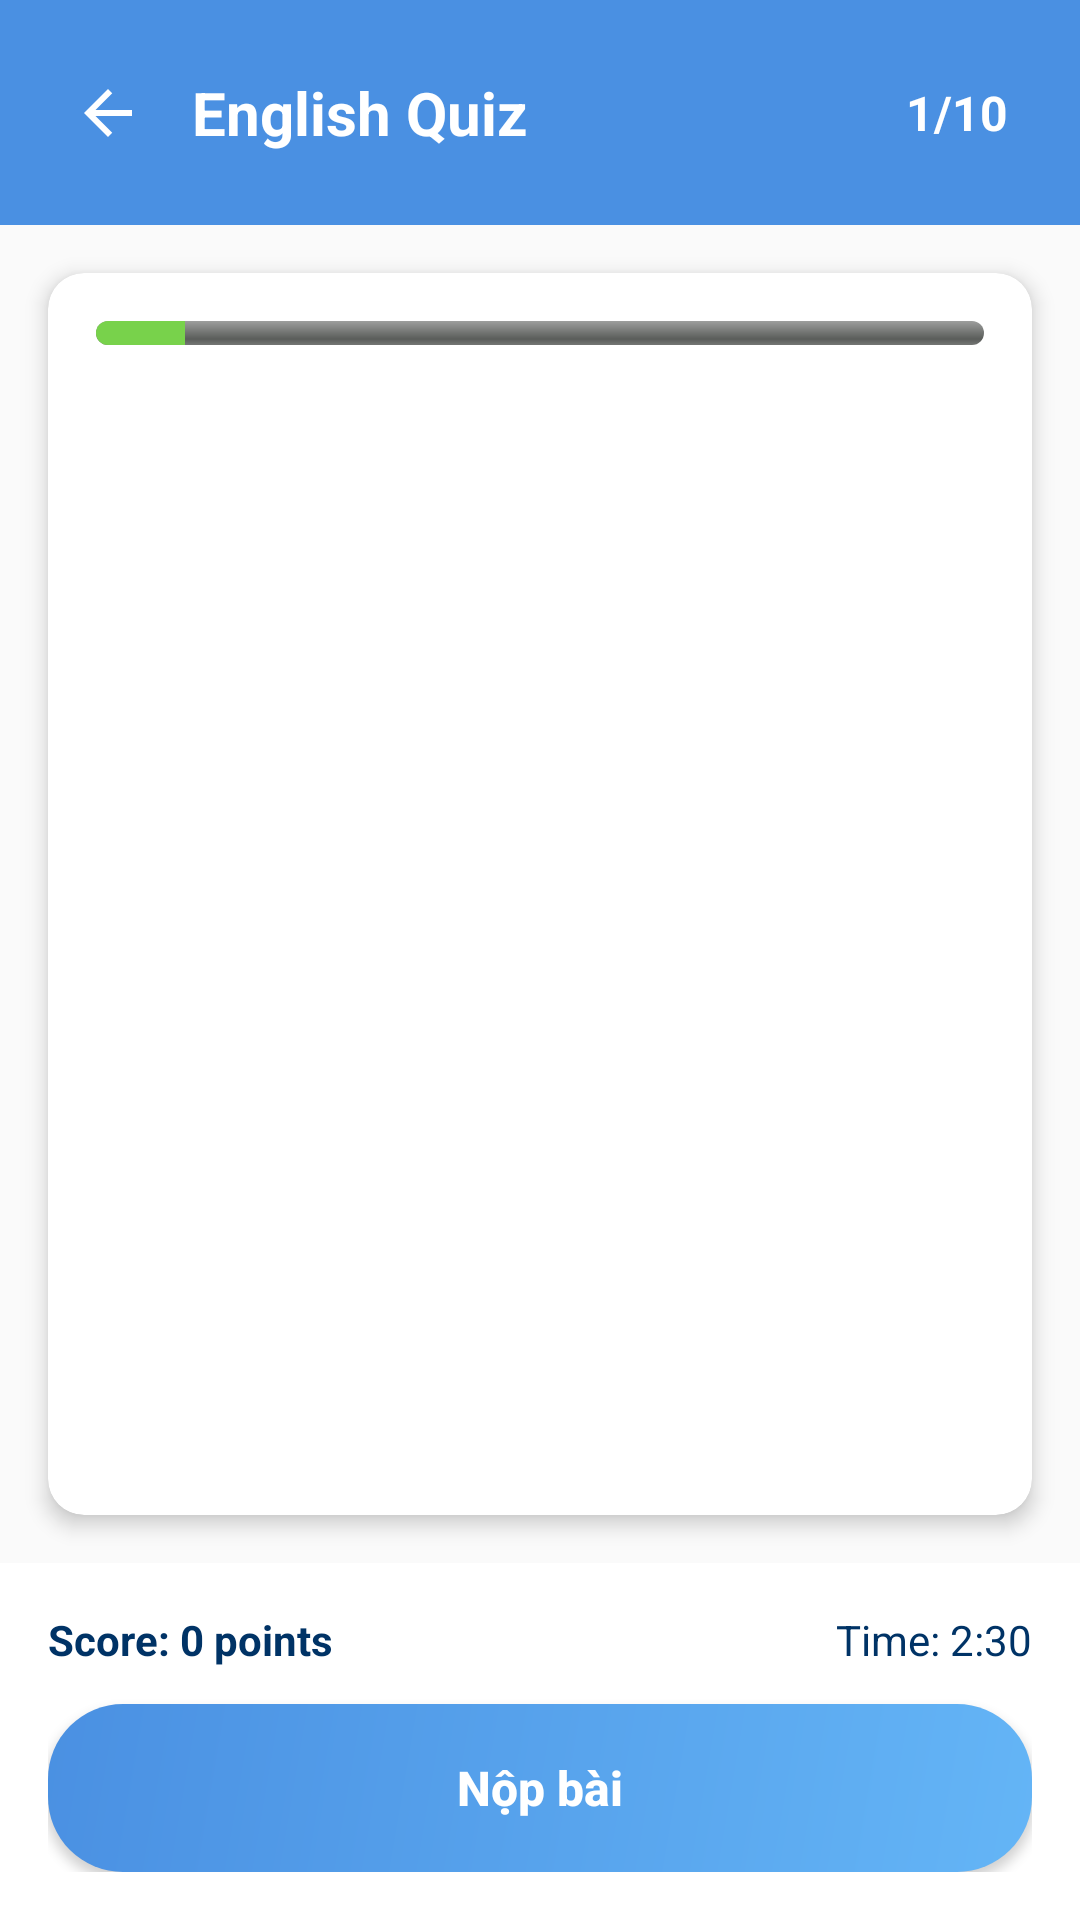

Icon click points for this 1080px×1920px phone screenshot, format [x,y]:
arrow back: [108,113]
